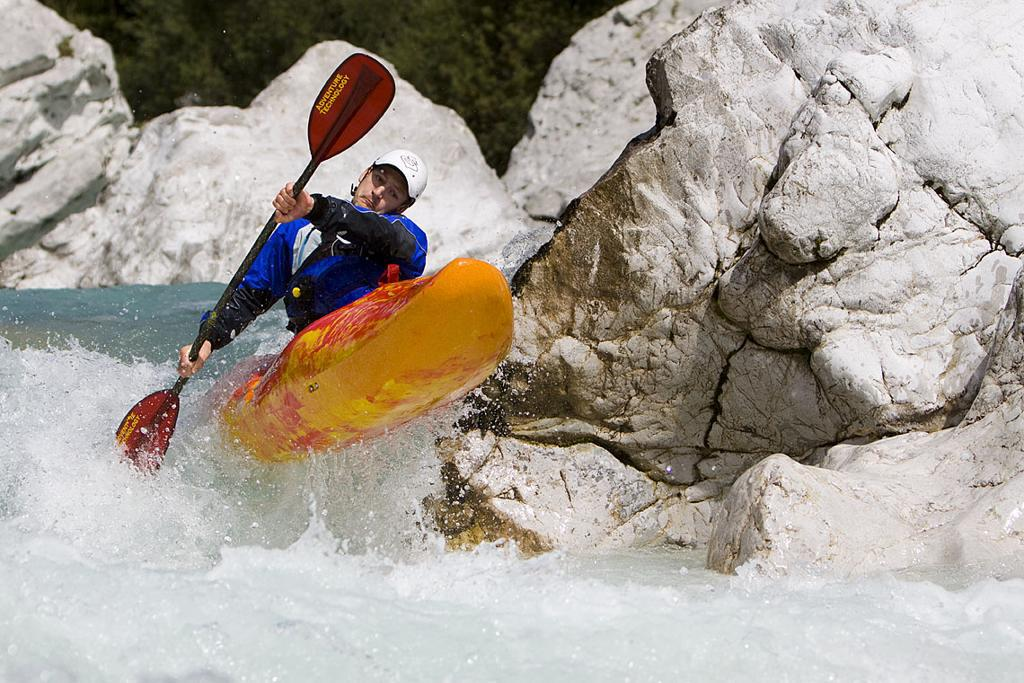face: (357, 159, 415, 217)
